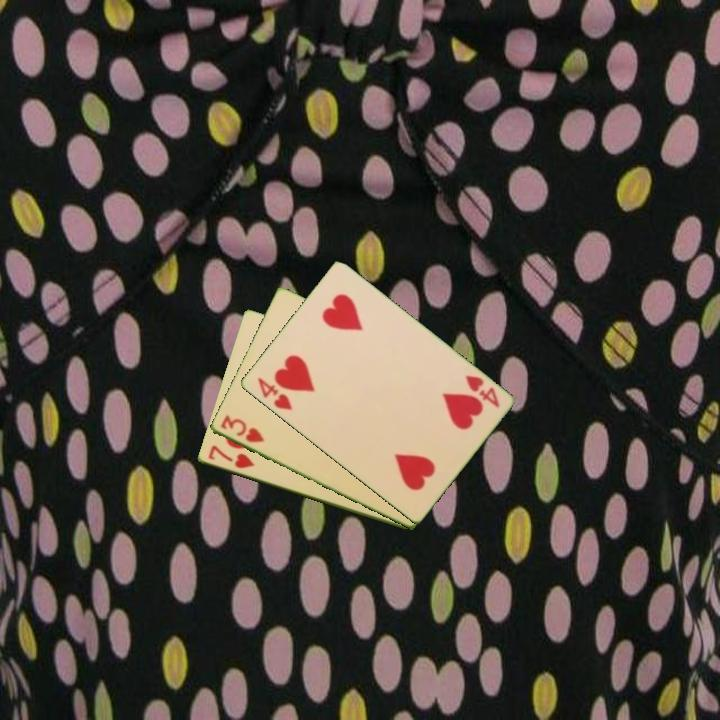3h: (217, 411, 267, 446)
4h: (461, 371, 503, 411), (253, 374, 295, 413)
7h: (204, 442, 257, 472)
